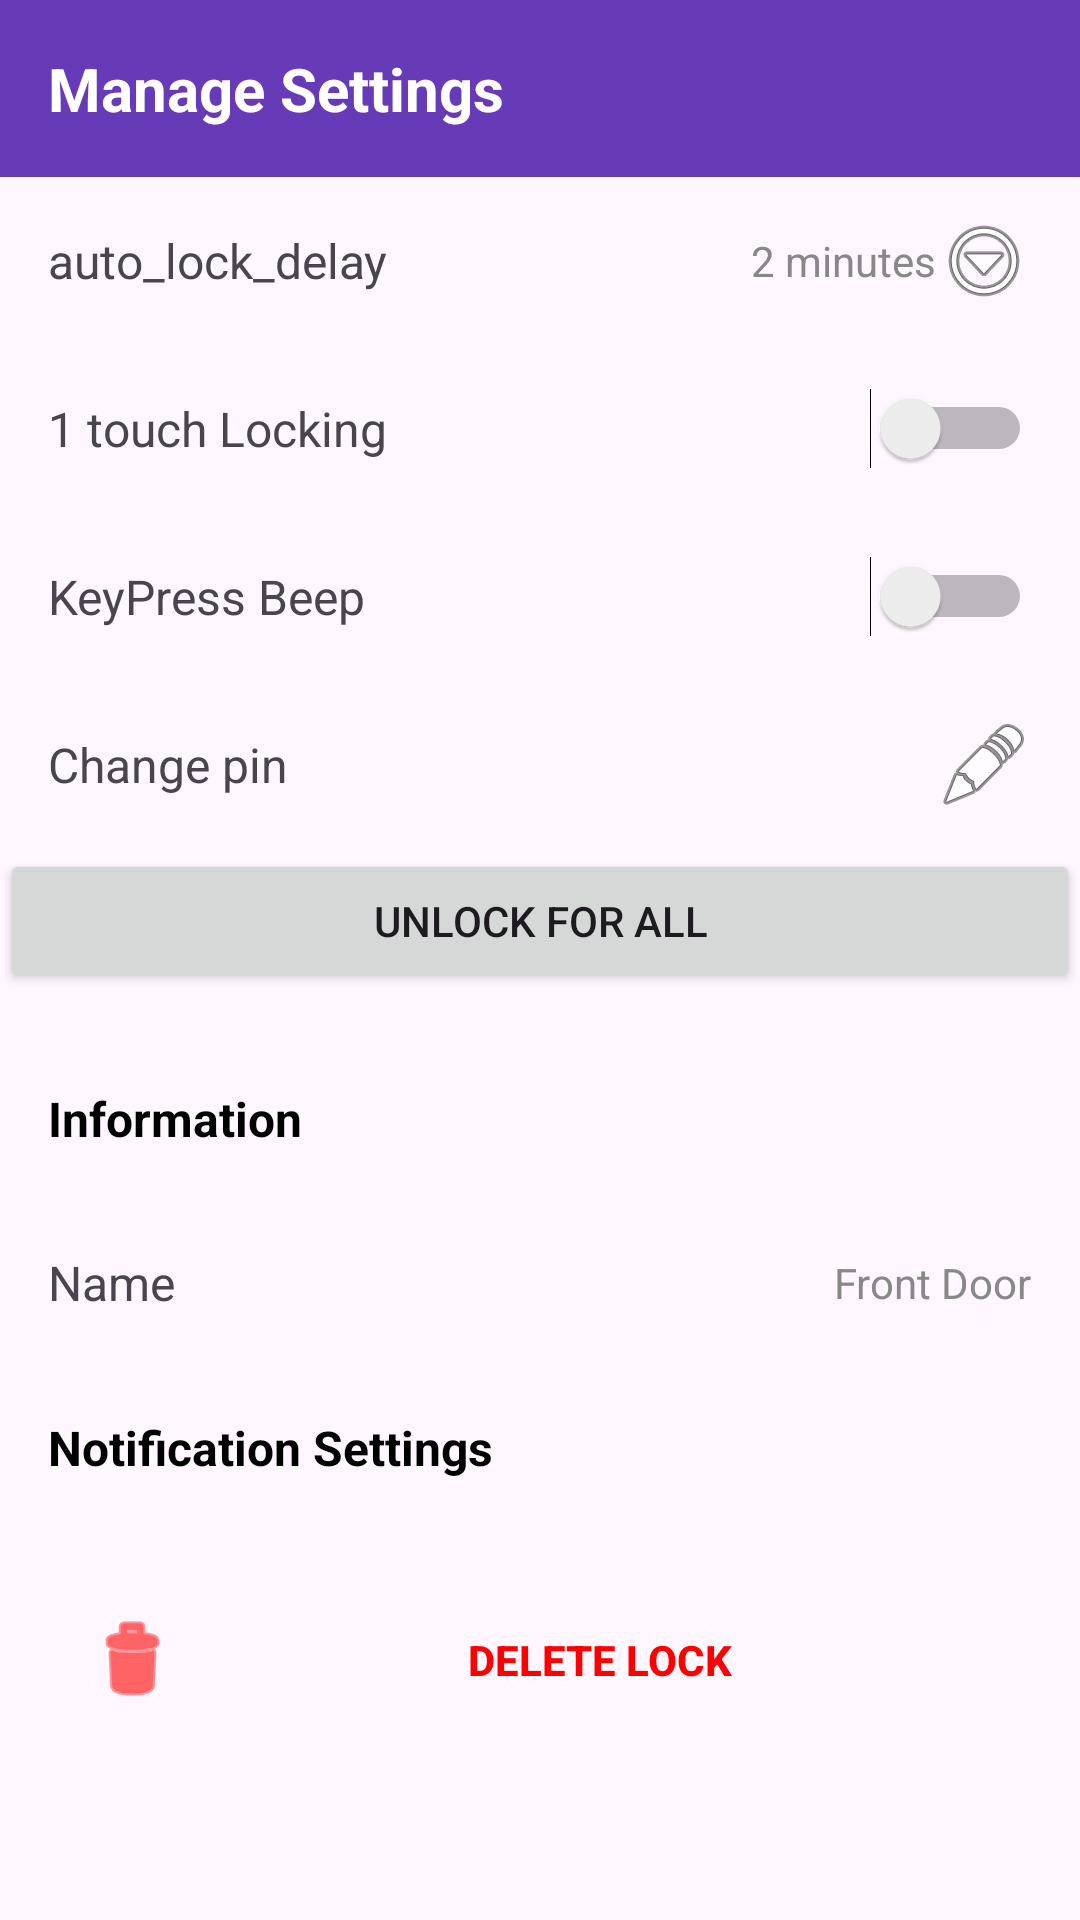

Screen size 1080px×1920px. Icon name, then its center in pixels as (x,y):
edit: (983,764)
more: (984,261)
